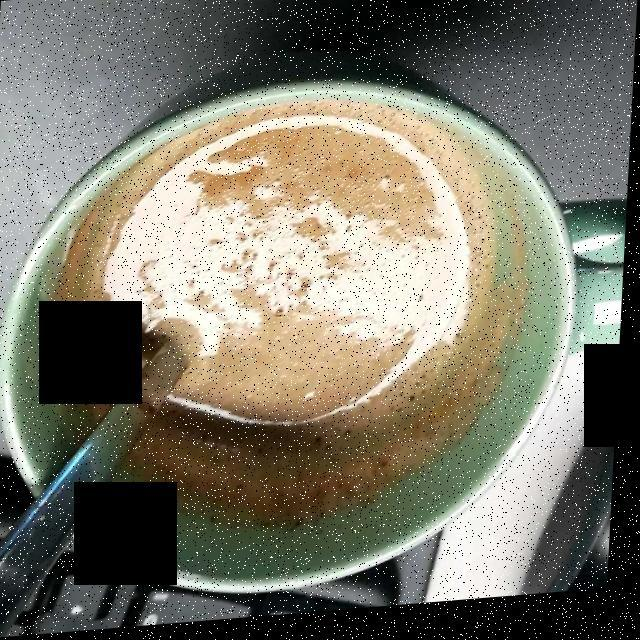cappuccino: (69, 109, 524, 510)
